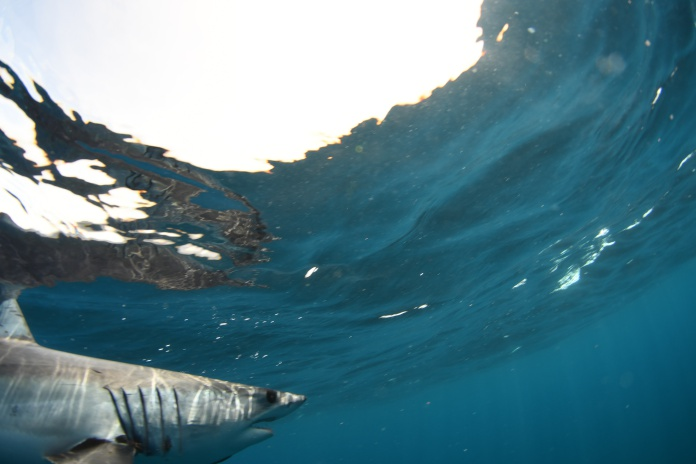Mako: (1, 294, 332, 464)
